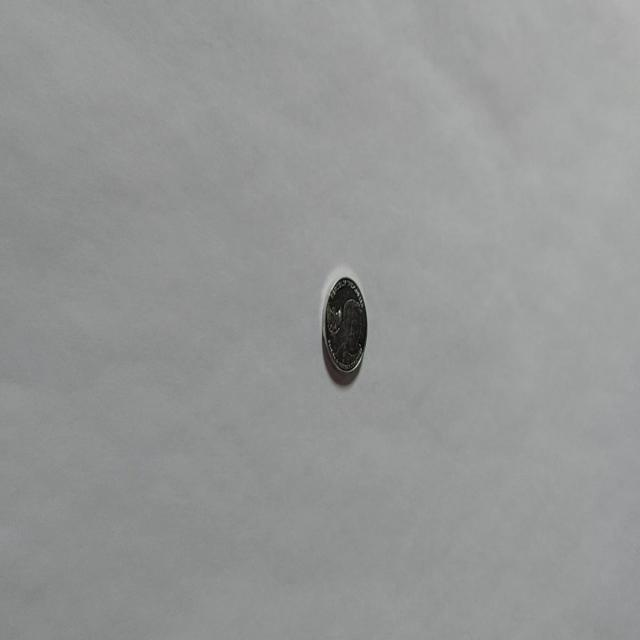seratus rupiah: (320, 274, 368, 376)
